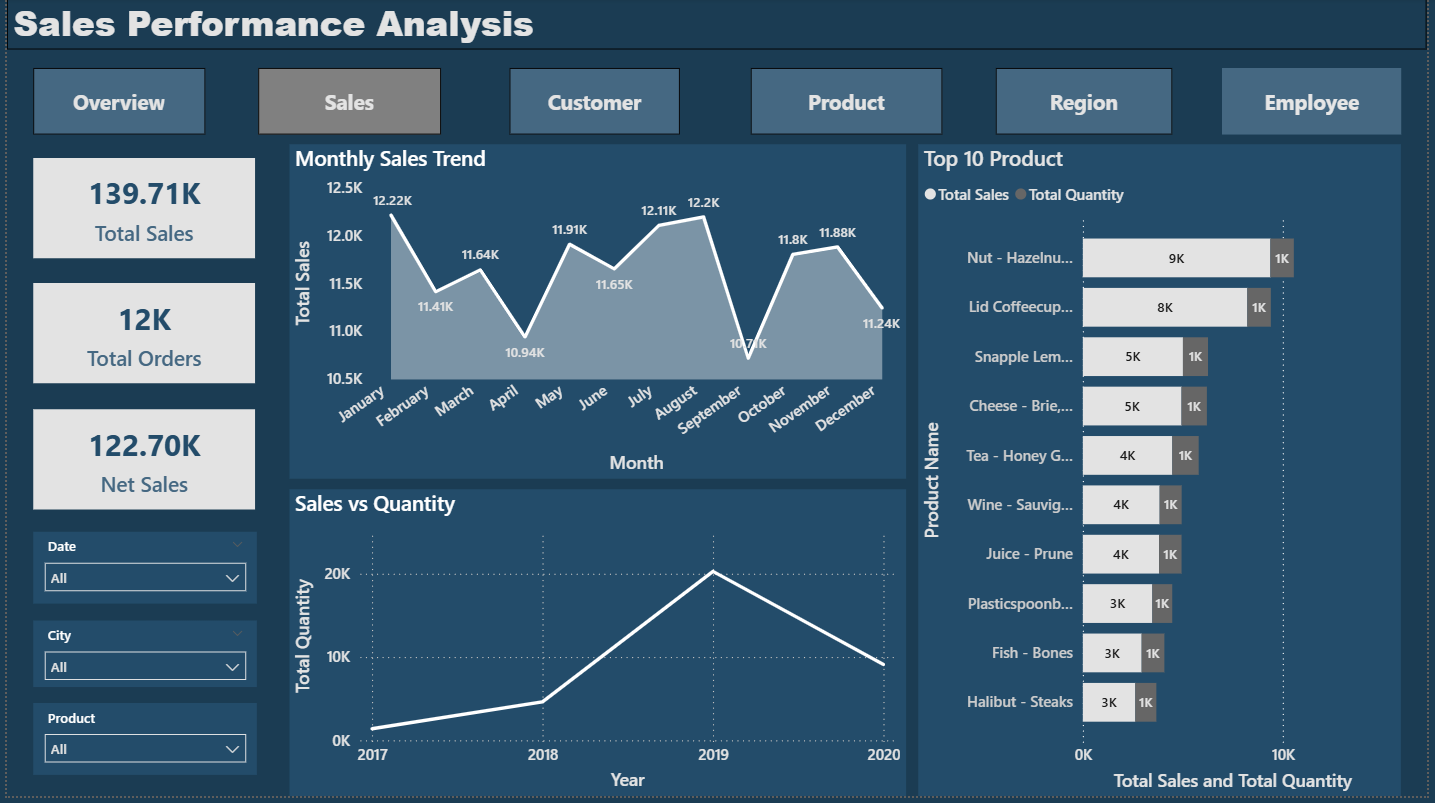

The dashboard page shown, as its layout file describes it:
{"tool":"powerbi","page":{"name":"Sales Dashboard","canvas":[1280,720],"ordinal":1},"visuals":[{"type":"textbox","title":"Sales Performance Analysis","box":[0,0,1280.3,46.7],"z":0},{"type":"card","fields":{"Values":["sales.Total Sales"]},"box":[23.3,144.1,200.3,90],"z":1000},{"type":"card","fields":{"Values":["sales.Total Orders"]},"box":[23.3,256.6,200.3,90.6],"z":2000},{"type":"card","fields":{"Values":["sales.Net Sales"]},"box":[23.3,370.5,200.3,90.6],"z":3000},{"type":"lineChart","title":"Monthly Sales Trend","fields":{"Category":["sales.date.Variation.Date Hierarchy.Month"],"Y":["sales.Total Sales"]},"box":[255.2,131.7,555.7,301.9],"z":4000},{"type":"lineChart","title":"Sales vs Quantity","fields":{"Category":["sales.date.Variation.Date Hierarchy.Year","sales.date.Variation.Date Hierarchy.Quarter","sales.date.Variation.Date Hierarchy.Month","sales.date.Variation.Date Hierarchy.Day"],"Y":["sales.Total Quantity"]},"box":[255.2,443.2,555.7,277.2],"z":5000},{"type":"barChart","title":"Top 10 Product","fields":{"Category":["products.product"],"Y":["sales.Total Sales","sales.Total Quantity"]},"box":[822,131.7,435,588.7],"z":6000},{"type":"actionButton","box":[226.4,63.1,164.7,60.4],"z":7000},{"type":"actionButton","box":[452.8,63.1,153.7,60.4],"z":8000},{"type":"actionButton","box":[671,63.1,172.9,60.4],"z":9000},{"type":"actionButton","box":[891.9,63.1,159.2,60.4],"z":10000},{"type":"actionButton","title":"Over","box":[23.3,63.1,155.1,60.4],"z":11000},{"type":"actionButton","box":[1095,63.1,161.9,60.4],"z":12000},{"type":"slicer","fields":{"Values":["sales.date"]},"box":[23.3,481.6,201.7,64.5],"z":13000},{"type":"slicer","fields":{"Values":["location.city"]},"box":[23.3,561.2,201.7,60.4],"z":14000},{"type":"slicer","fields":{"Values":["products.product"]},"box":[23.3,635.3,201.7,64.5],"z":15000}]}

Visuals, with their boxes in screenshot pixels (x1, y1, x2, y2), scaled from the page's 1280x720 canvas onto the 1435x803 screenshot:
"Sales Performance Analysis" textbox: (left=0, top=0, right=1434, bottom=52)
card - sales.Total Sales: (left=26, top=161, right=251, bottom=261)
card - sales.Total Orders: (left=26, top=286, right=251, bottom=387)
card - sales.Net Sales: (left=26, top=413, right=251, bottom=514)
"Monthly Sales Trend" lineChart: (left=286, top=147, right=909, bottom=484)
"Sales vs Quantity" lineChart: (left=286, top=494, right=909, bottom=802)
"Top 10 Product" barChart: (left=922, top=147, right=1409, bottom=802)
actionButton: (left=254, top=70, right=438, bottom=138)
actionButton: (left=508, top=70, right=680, bottom=138)
actionButton: (left=752, top=70, right=946, bottom=138)
actionButton: (left=1000, top=70, right=1178, bottom=138)
"Over" actionButton: (left=26, top=70, right=200, bottom=138)
actionButton: (left=1228, top=70, right=1409, bottom=138)
slicer - sales.date: (left=26, top=537, right=252, bottom=609)
slicer - location.city: (left=26, top=626, right=252, bottom=693)
slicer - products.product: (left=26, top=709, right=252, bottom=780)
